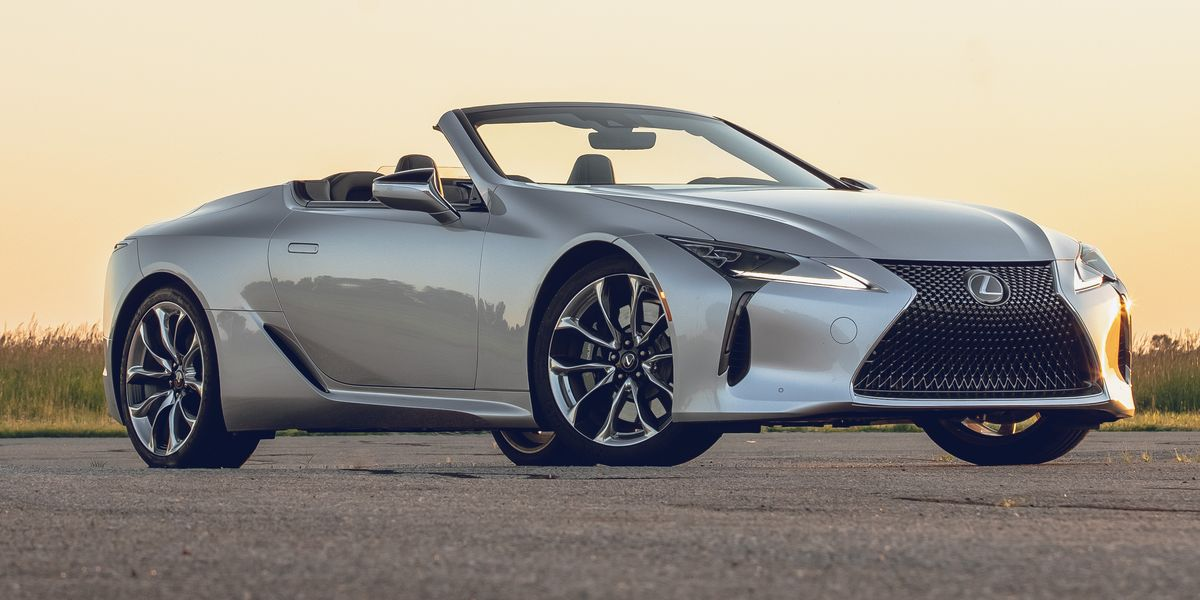car: (101, 100, 1135, 468)
